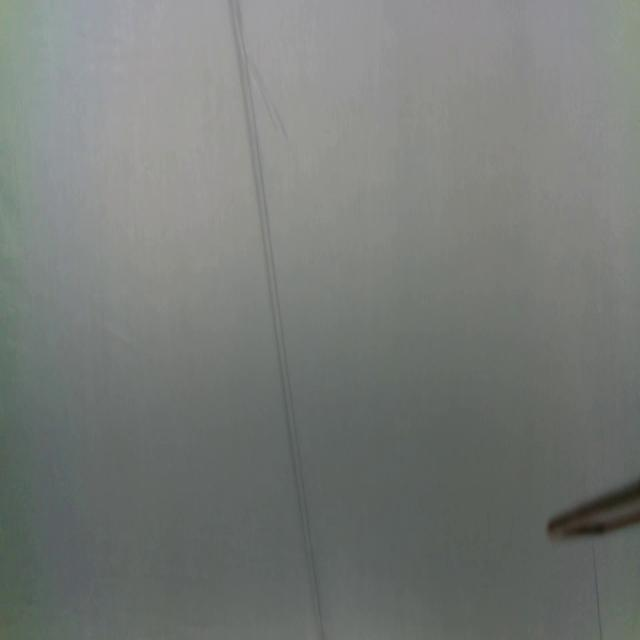crease: (227, 0, 324, 633), (589, 540, 604, 640)
